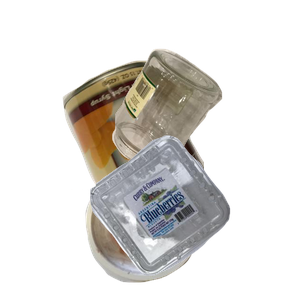glass: (110, 46, 300, 205)
metal: (60, 58, 300, 238)
plastic: (88, 133, 300, 300)
trash: (83, 163, 276, 300)
